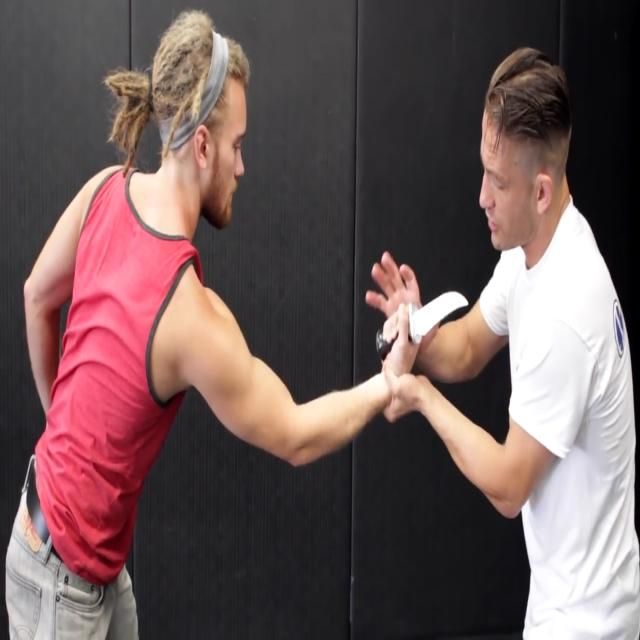knife: (376, 290, 473, 363)
